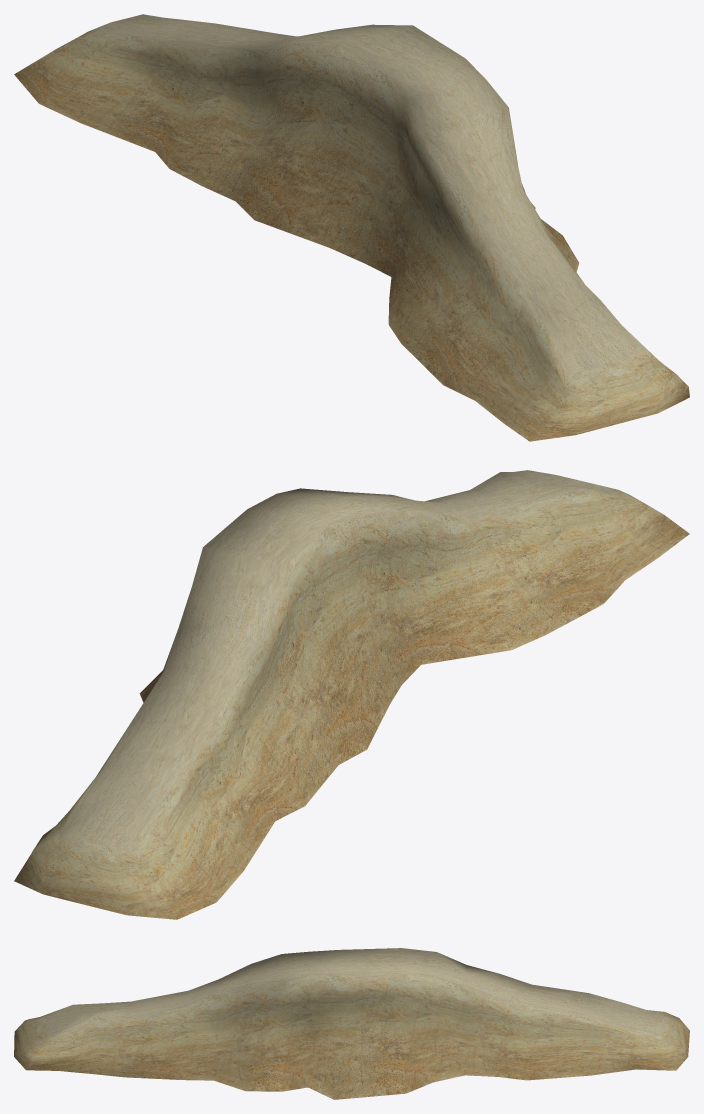
Rendered from rock_beach_spine_a1_l1.fbx.
3 views of the same model, one above another, from view 1: azimuth 30°, elevation 25°; view 2: azimuth 150°, elevation 25°; view 3: azimuth 270°, elevation 25° (orthographic). The views are drawn at different scales.
Parts seen in each view (by area): view 1: mesh_node; view 2: mesh_node; view 3: mesh_node.
Boxes of the visible parts, <box> form: mesh_node: <box>14,14,689,441</box>; mesh_node: <box>14,470,689,919</box>; mesh_node: <box>14,948,689,1099</box>.
Bounding box in the file's own units: 8.03 × 4.86 × 27.62.
